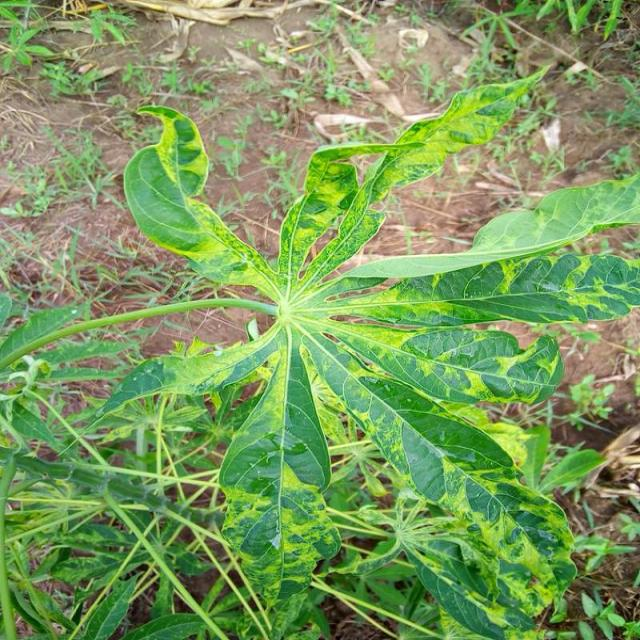cassava leaf: (5, 58, 638, 634)
